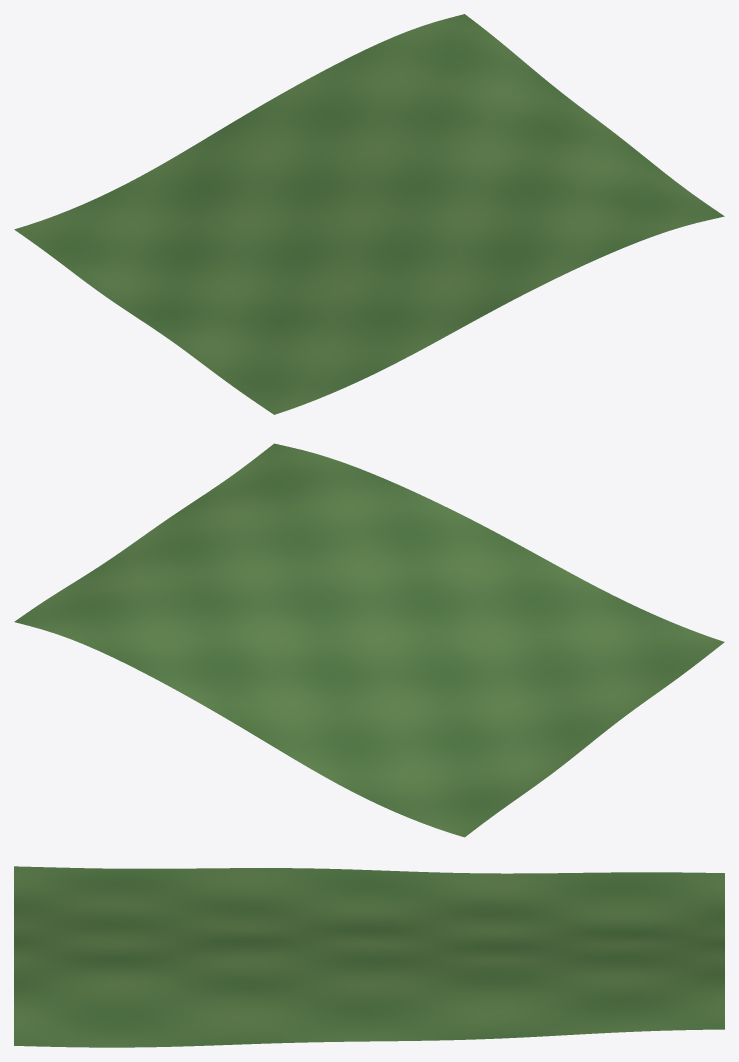
The model's file is chunk_12_5.glb.
3 renders of one model, top to bottom at view 1: azimuth 30°, elevation 25°; view 2: azimuth 150°, elevation 25°; view 3: azimuth 270°, elevation 25°, orthographic. The views are drawn at different scales.
Bounding box in the file's own units: 512 × 115 × 512.
